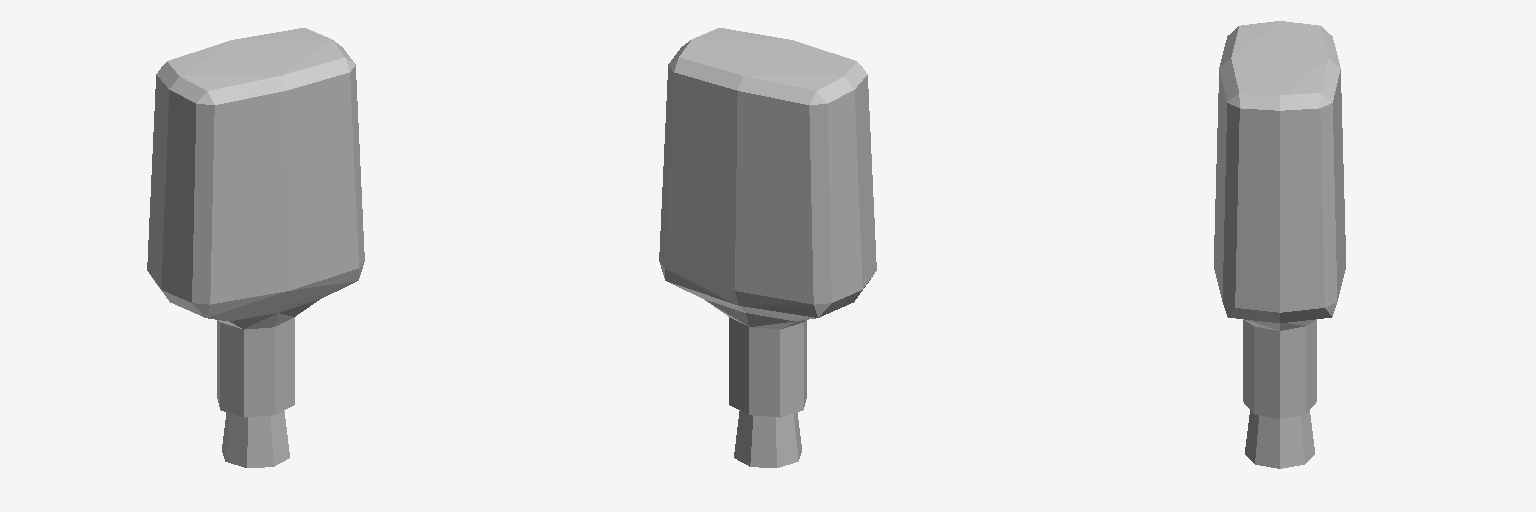
File: bottle.obj
The picture shows the model from 3 angles: view 1: azimuth 30°, elevation 25°; view 2: azimuth 150°, elevation 25°; view 3: azimuth 270°, elevation 25°; orthographic projection.
Visible parts, largest first — view 1: mesh_bottle; view 2: mesh_bottle; view 3: mesh_bottle.
Part boxes in pixels (left/top/right/bottom): mesh_bottle: left=147, top=28, right=364, bottom=467; mesh_bottle: left=659, top=28, right=876, bottom=467; mesh_bottle: left=1214, top=21, right=1345, bottom=468.
Bounding box in the file's own units: 1.21 × 2.41 × 0.7324.